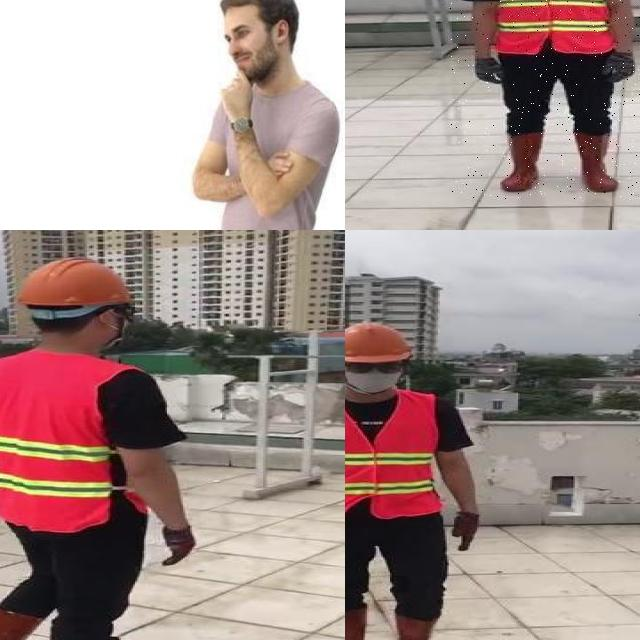No_Ear-Protection: (276, 13, 292, 53)
No_Glasses: (228, 17, 260, 49)
boots: (571, 129, 623, 195), (500, 131, 546, 192), (393, 611, 446, 640)
face_mask: (345, 354, 404, 391)
face_nomask: (222, 42, 271, 74)
glasses: (345, 357, 405, 375)
hand_glove: (160, 528, 194, 568), (452, 511, 477, 554)
hand_noglove: (217, 69, 259, 138)
head_helmet: (12, 255, 134, 308), (345, 320, 413, 364)
person: (0, 253, 201, 640), (345, 316, 498, 640), (450, 0, 640, 199), (189, 0, 341, 230)
vest: (0, 352, 127, 533), (345, 391, 439, 517), (491, 0, 612, 54)
